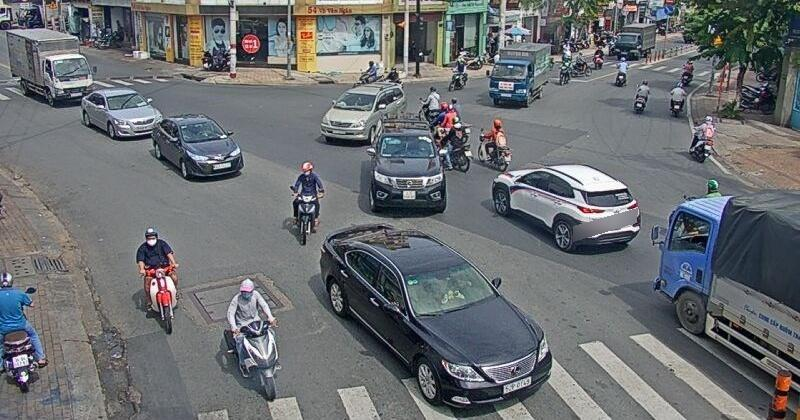xe hoi: (319, 222, 551, 409), (492, 164, 641, 251), (366, 130, 447, 211), (152, 113, 243, 180), (320, 83, 406, 140), (81, 88, 163, 139)
xe may: (223, 278, 277, 401), (135, 227, 178, 334), (289, 162, 323, 245), (477, 119, 512, 172), (687, 115, 714, 165)
xe tai: (657, 189, 800, 384), (487, 42, 549, 104)
